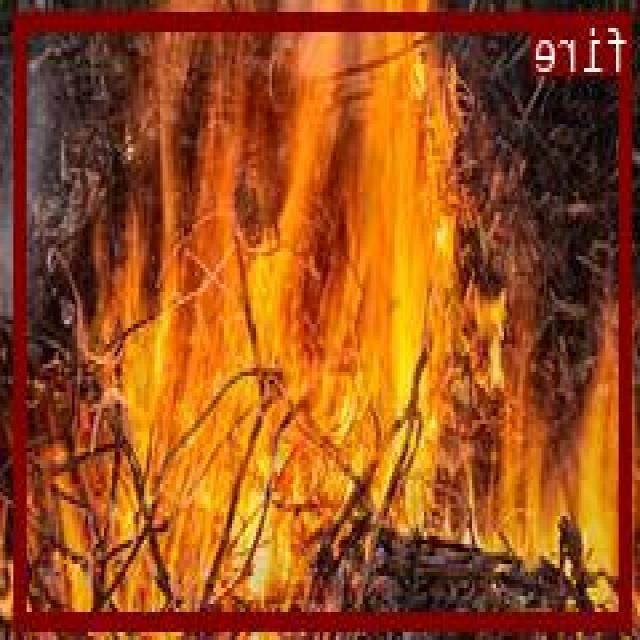fire: (17, 11, 634, 625)
